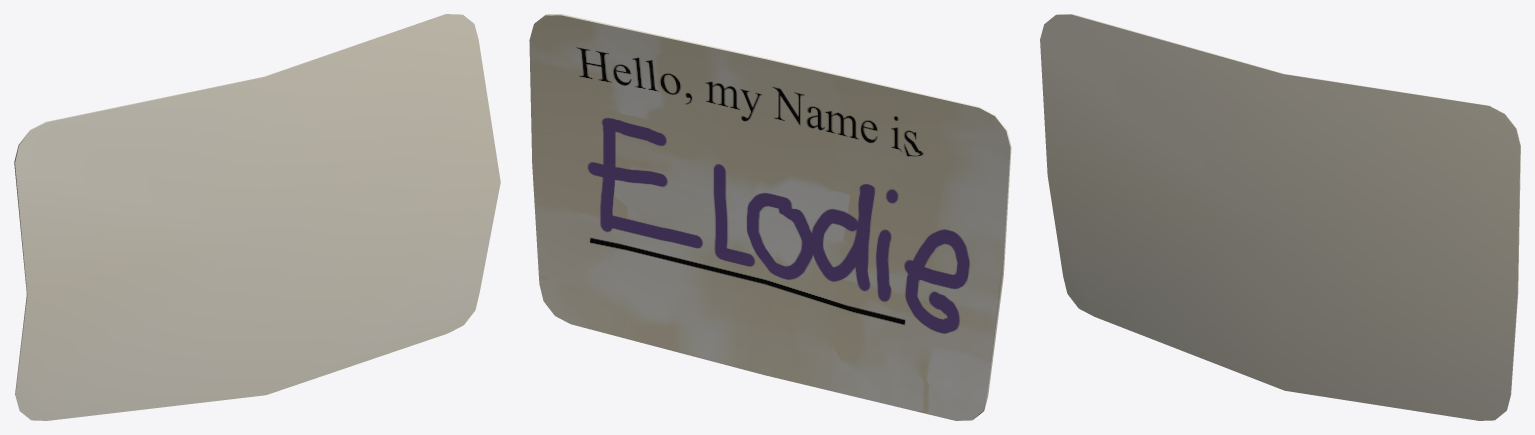
File: name_tag.fbx
3 renders of one model, left to right at view 1: azimuth 30°, elevation 25°; view 2: azimuth 150°, elevation 25°; view 3: azimuth 330°, elevation 25°, orthographic.
Parts seen in each view (by area): view 1: Plane; view 2: Plane; view 3: Plane.
Boxes of the visible parts, box(x1,y1,x2,y2) form: Plane: box(14, 14, 500, 420); Plane: box(529, 14, 1011, 420); Plane: box(1040, 14, 1520, 420).
Size of the model in its own units: 0.3953 by 0.2539 by 0.0208.
Materials: 1 (1 with a texture image).
